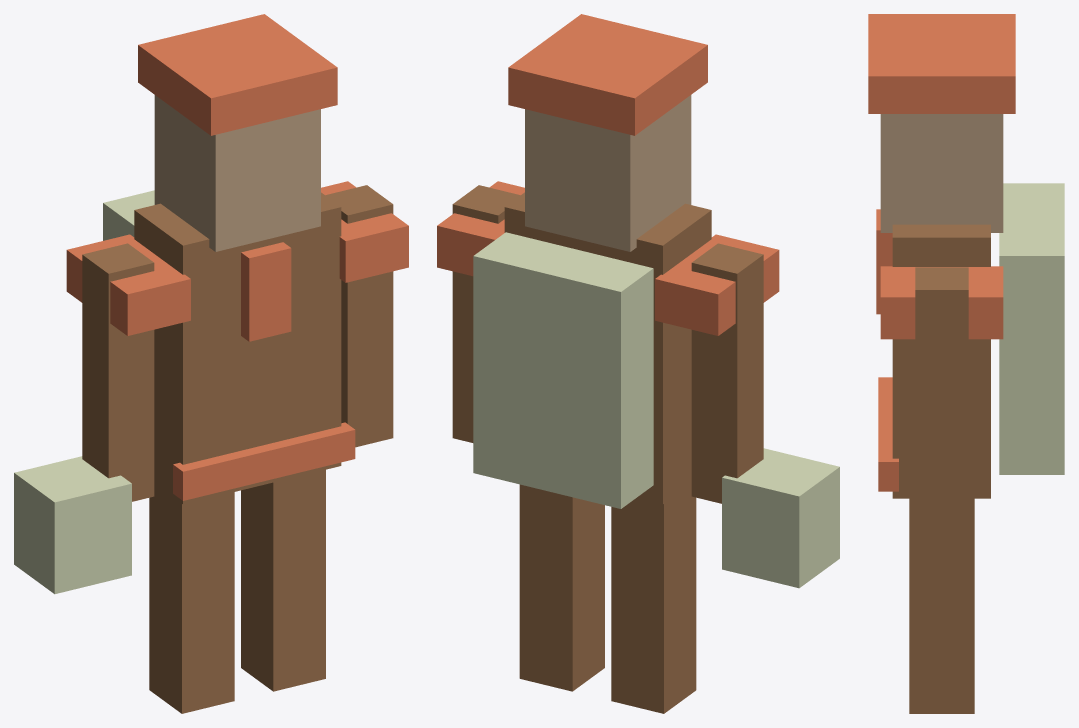
Rendered from 02_luma_wayfare_engineer_from_standing.glb.
The picture shows the model from 3 angles, left to right: view 1: azimuth 30°, elevation 25°; view 2: azimuth 150°, elevation 25°; view 3: azimuth 270°, elevation 25°; orthographic projection.
Visible parts, largest first — view 1: Luma Wayfare, Engineer from Standing; view 2: Luma Wayfare, Engineer from Standing; view 3: Luma Wayfare, Engineer from Standing.
Boxes of the visible parts, <box> form: Luma Wayfare, Engineer from Standing: <box>14,14,408,713</box>; Luma Wayfare, Engineer from Standing: <box>437,14,839,713</box>; Luma Wayfare, Engineer from Standing: <box>868,14,1064,713</box>.
Bounding box in the file's own units: 0.9541 × 1.64 × 0.4603.
